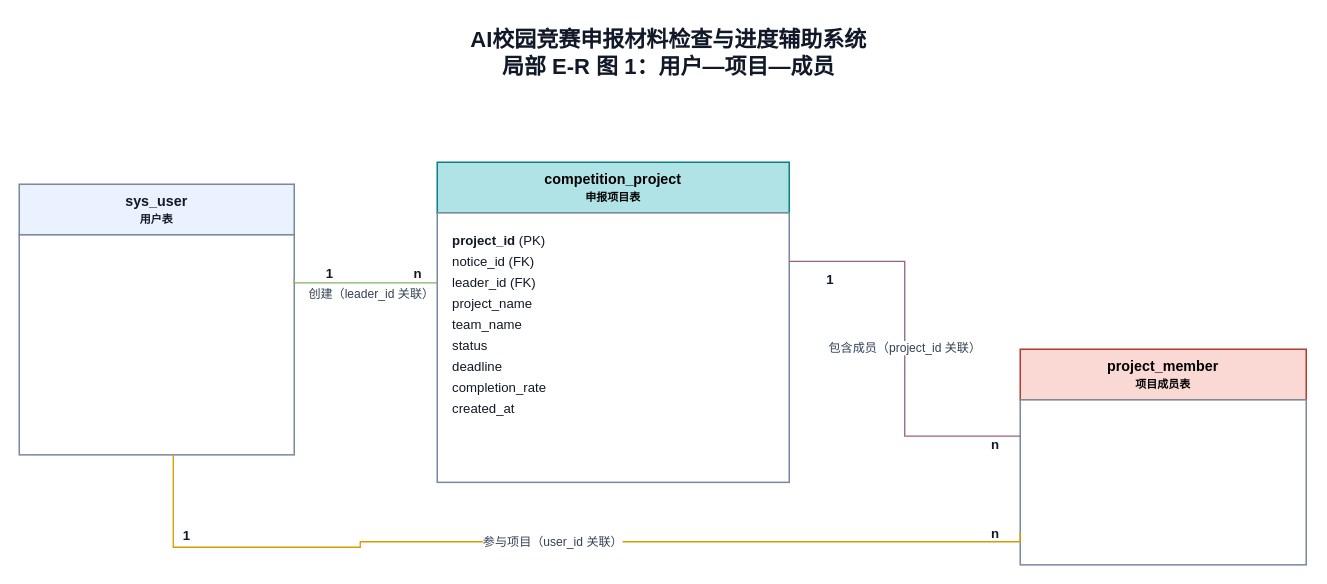
The diagram is 1327 pixels wide and 584 high, and some of its shapes have lost their labels. The box of each missing label's shape, as (x1, y1, x2, y2) in pixels:
member_id (PK) project_id (FK) user_id (FK) member_role join_time: (1019, 399, 1306, 565)
user_id (PK) username password real_name role phone created_at: (18, 234, 294, 455)
